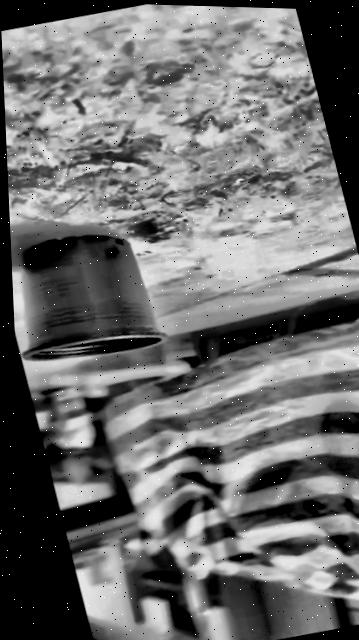pot: (10, 219, 170, 375)
